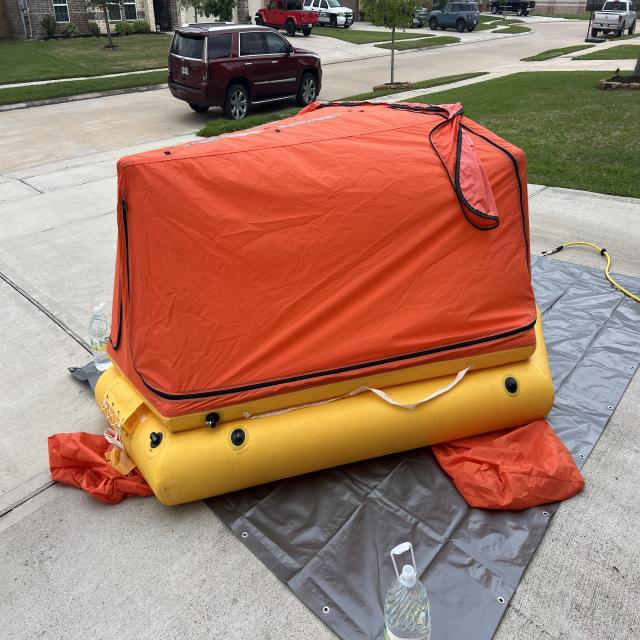Multi-person_life_raft: (47, 98, 585, 511)
